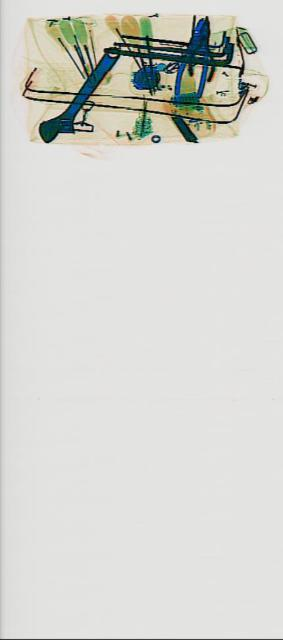Pliers: (171, 5, 214, 111), (184, 7, 218, 84)
Wrench: (36, 28, 124, 162)
